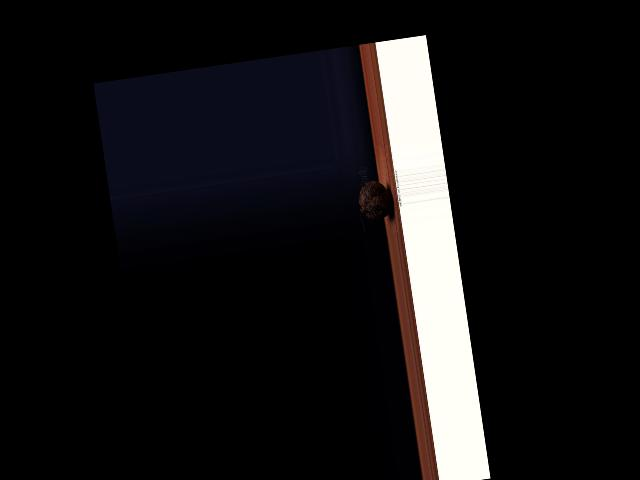beet: (355, 178, 396, 233)
